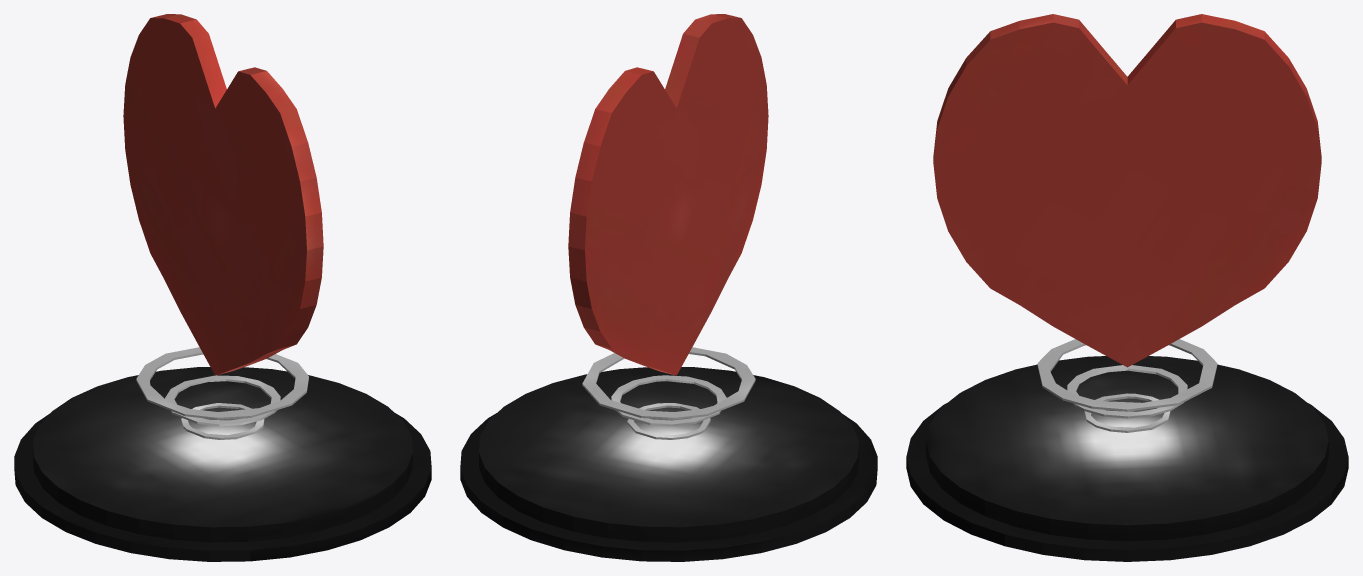
Rendered from heart peice.dae.
The picture shows the model from 3 angles, left to right: view 1: azimuth 30°, elevation 25°; view 2: azimuth 150°, elevation 25°; view 3: azimuth 270°, elevation 25°; orthographic projection. The views are drawn at different scales.
Visible parts, largest first — view 1: Circle; view 2: Circle; view 3: Circle.
Boxes of the visible parts, <box> form: Circle: <box>14,14,431,561</box>; Circle: <box>460,14,877,561</box>; Circle: <box>906,14,1348,561</box>.
Bounding box in the file's own units: 0.5118 × 0.5118 × 0.5755.
1 material, 1 textured.
